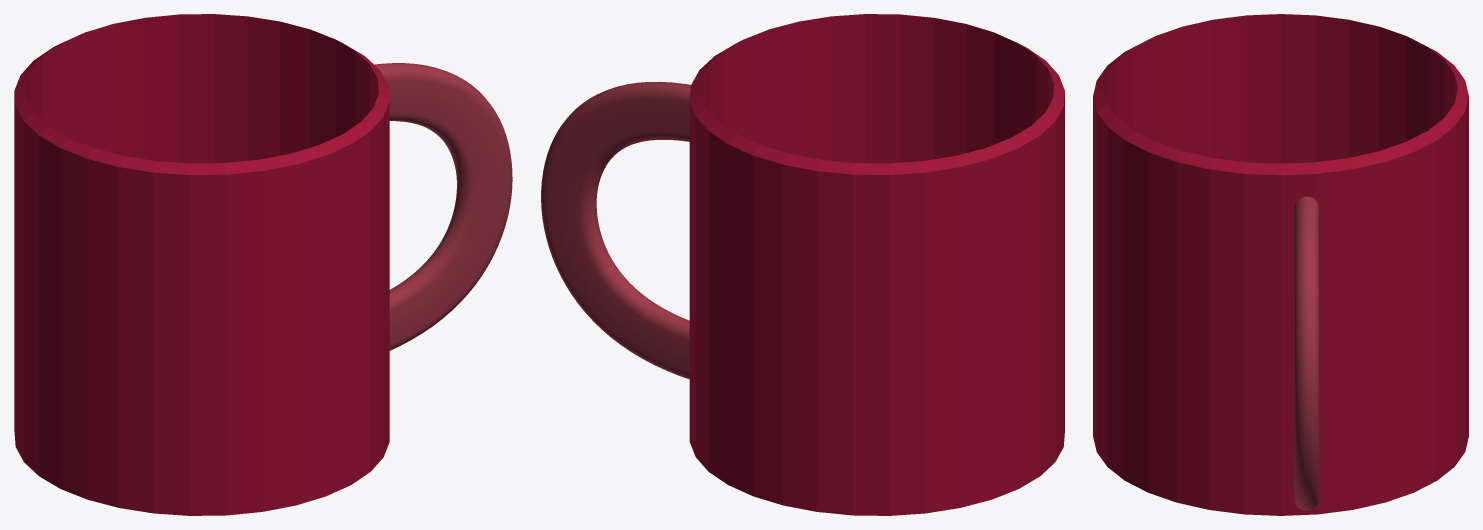
The model's file is MugRed.fbx.
3 views of the same model, side by side, from view 1: azimuth 30°, elevation 25°; view 2: azimuth 150°, elevation 25°; view 3: azimuth 270°, elevation 25° (orthographic).
Visible parts, largest first — view 1: MugRed; view 2: MugRed; view 3: MugRed.
Part boxes in pixels (x1,y1,x2,y2): MugRed: (14,14,512,515); MugRed: (541,14,1064,515); MugRed: (1093,14,1468,515).
Size of the model in its own units: 24.47 by 16.45 by 16.79.
